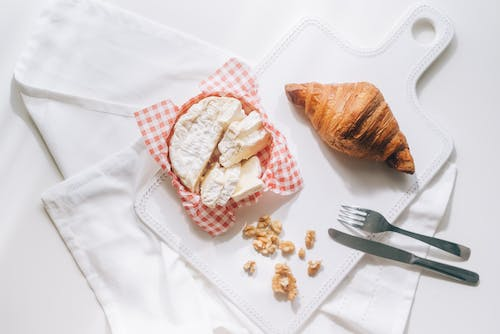knife: (327, 227, 481, 287)
